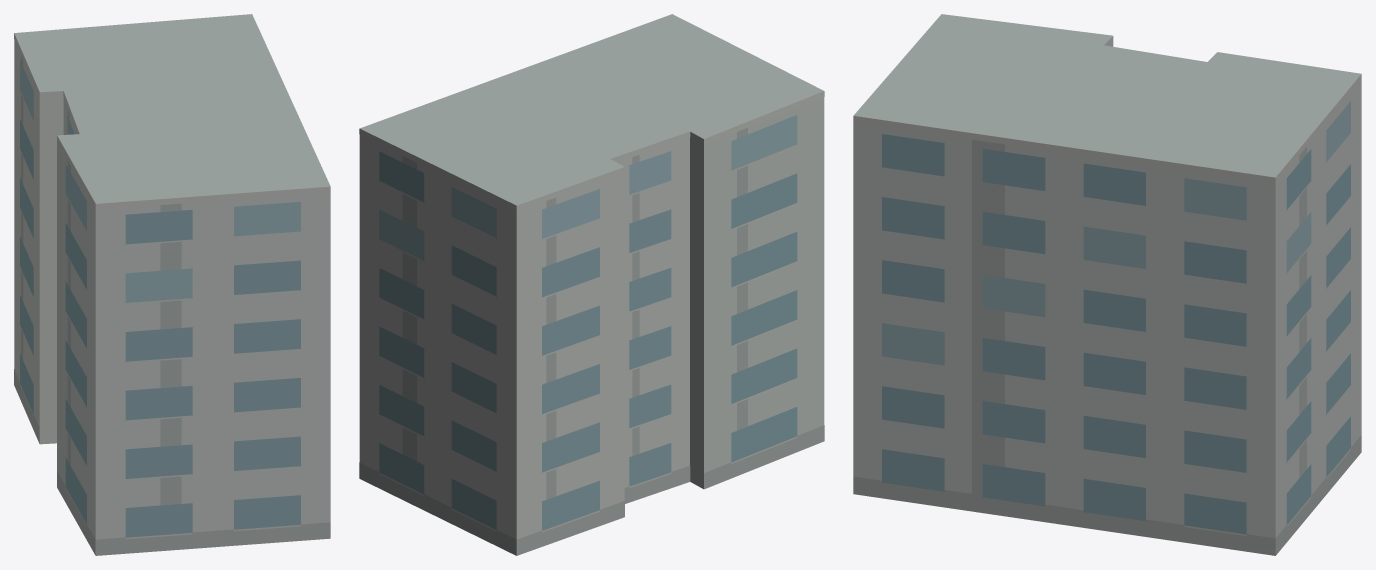
File: survey-upis-32854267.glb
3 renders of one model, left to right at view 1: azimuth 30°, elevation 25°; view 2: azimuth 150°, elevation 25°; view 3: azimuth 270°, elevation 25°, orthographic. The views are drawn at different scales.
Parts seen in each view (by area): view 1: survey-upis-32854267.tmp; view 2: survey-upis-32854267.tmp; view 3: survey-upis-32854267.tmp.
Boxes of the visible parts, x1=… form: survey-upis-32854267.tmp: x1=14, y1=14, x2=330, y2=555; survey-upis-32854267.tmp: x1=359, y1=14, x2=824, y2=555; survey-upis-32854267.tmp: x1=853, y1=14, x2=1361, y2=555.
Bounding box in the file's own units: 13.27 × 14.3 × 17.42.
